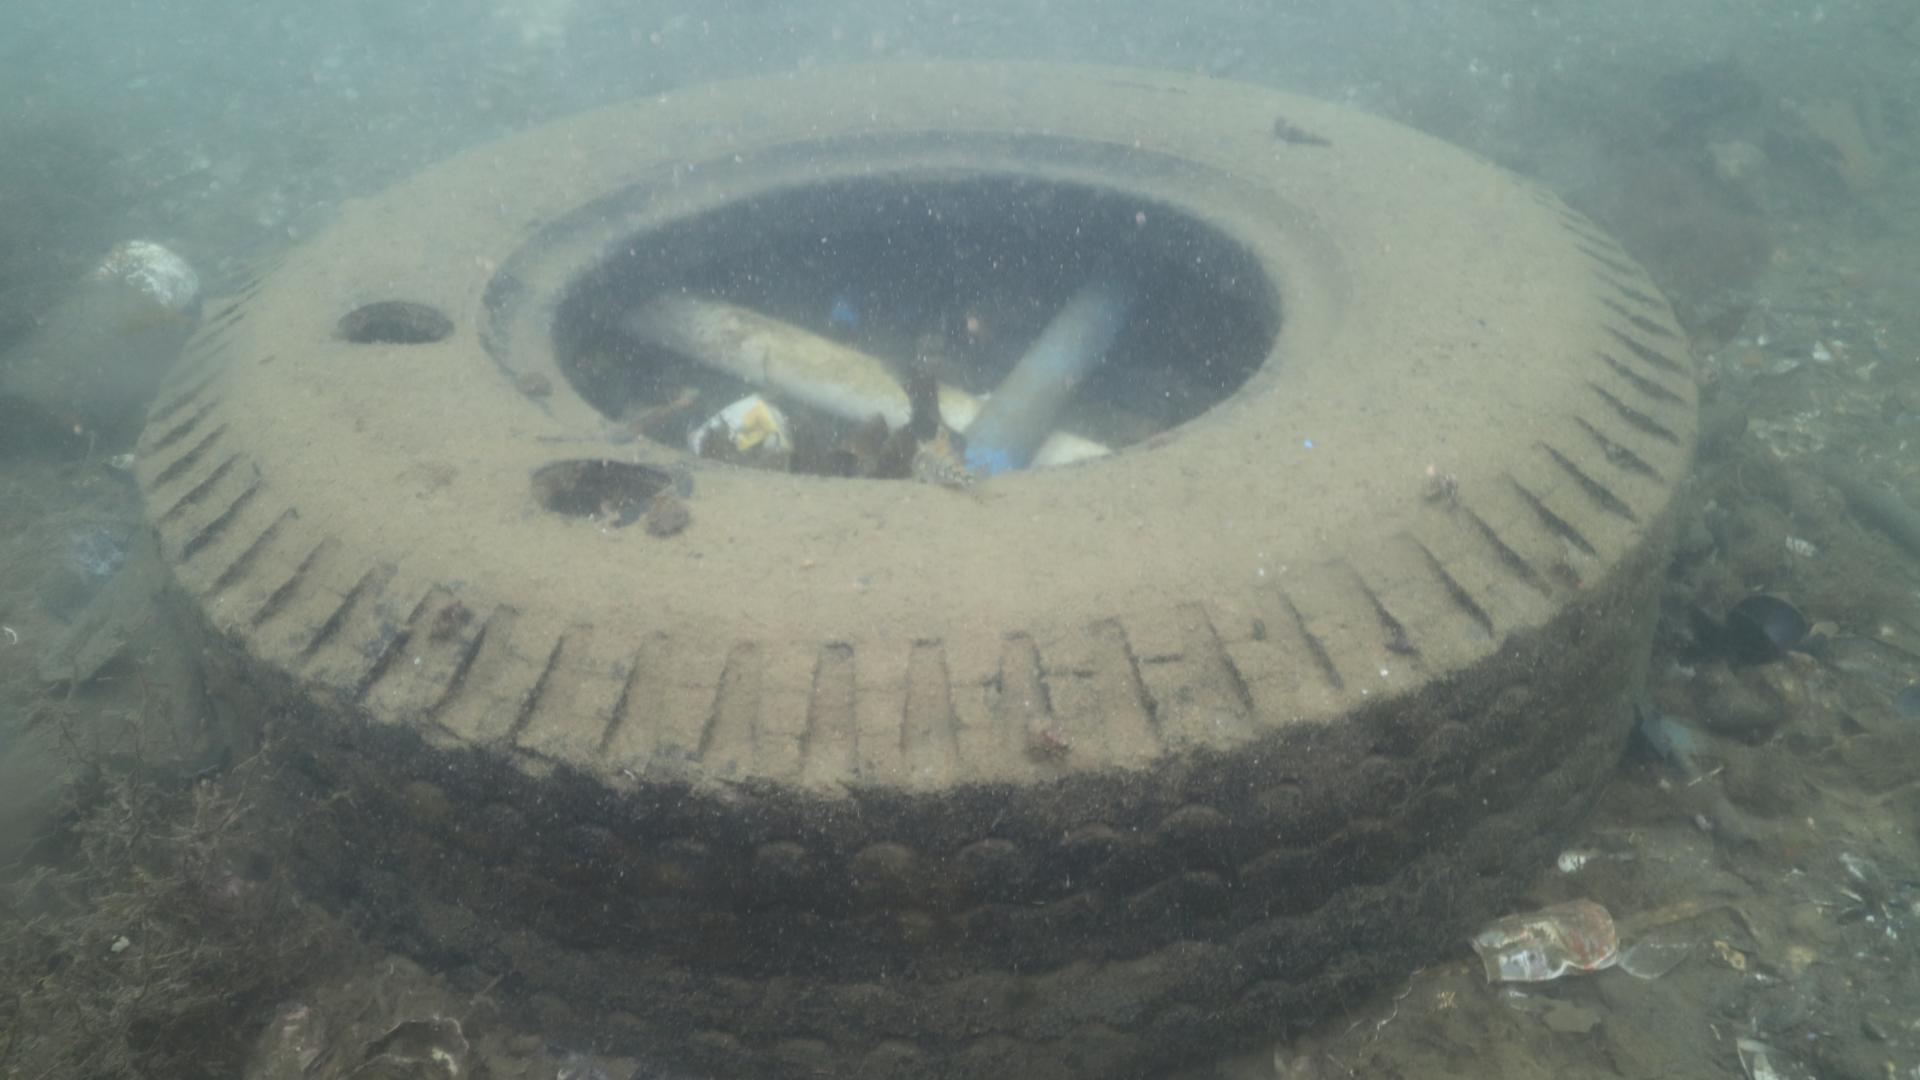tire: (128, 51, 1705, 1071)
